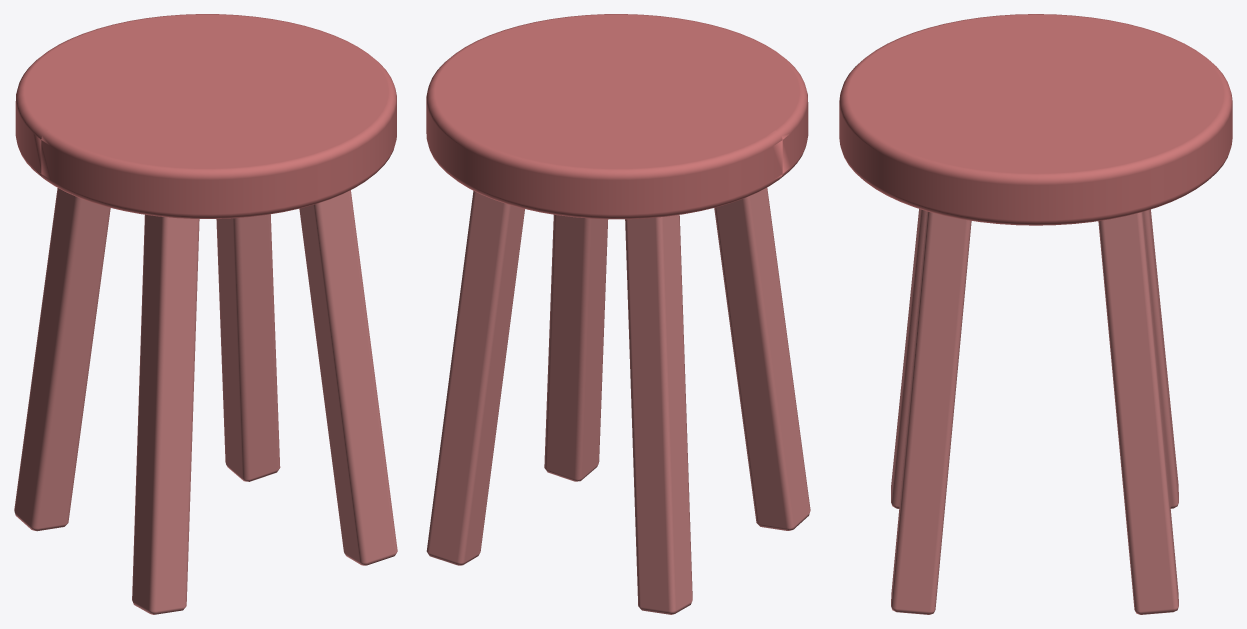
Rendered from woody-stool-transformed.glb.
3 renders of one model, left to right at view 1: azimuth 30°, elevation 25°; view 2: azimuth 150°, elevation 25°; view 3: azimuth 270°, elevation 25°, orthographic. The views are drawn at different scales.
Visible parts, largest first — view 1: Cylinder.003, Cube.005, Cube 3.002, Cube 2.002, Cube 3.001; view 2: Cylinder.003, Cube 2.002, Cube 3.001, Cube.005, Cube 3.002; view 3: Cylinder.003, Cube 3.002, Cube 3.001, Cube.005, Cube 2.002.
Boxes of the visible parts, <box> form: Cylinder.003: <box>15,14,396,218</box>; Cube.005: <box>132,214,199,614</box>; Cube 3.002: <box>299,190,397,565</box>; Cube 2.002: <box>14,188,110,531</box>; Cube 3.001: <box>216,214,280,481</box>; Cylinder.003: <box>426,14,808,219</box>; Cube 2.002: <box>625,215,692,614</box>; Cube 3.001: <box>426,191,524,565</box>; Cube.005: <box>714,187,810,530</box>; Cube 3.002: <box>544,214,608,481</box>; Cylinder.003: <box>839,14,1232,225</box>; Cube 3.002: <box>891,211,971,614</box>; Cube 3.001: <box>1098,212,1178,614</box>; Cube.005: <box>891,209,926,508</box>; Cube 2.002: <box>1143,209,1178,508</box>.
Bounding box in the file's own units: 0.533 × 0.6927 × 0.533.
